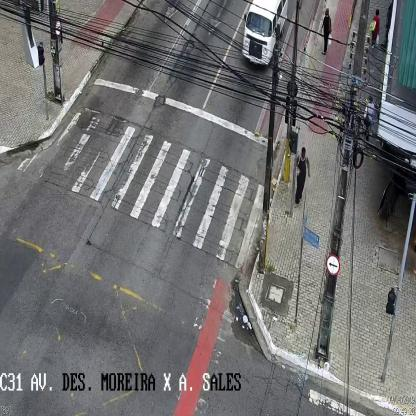car: (243, 0, 292, 75)
person: (294, 144, 310, 206), (362, 92, 377, 140), (320, 8, 332, 56), (370, 9, 380, 46)
